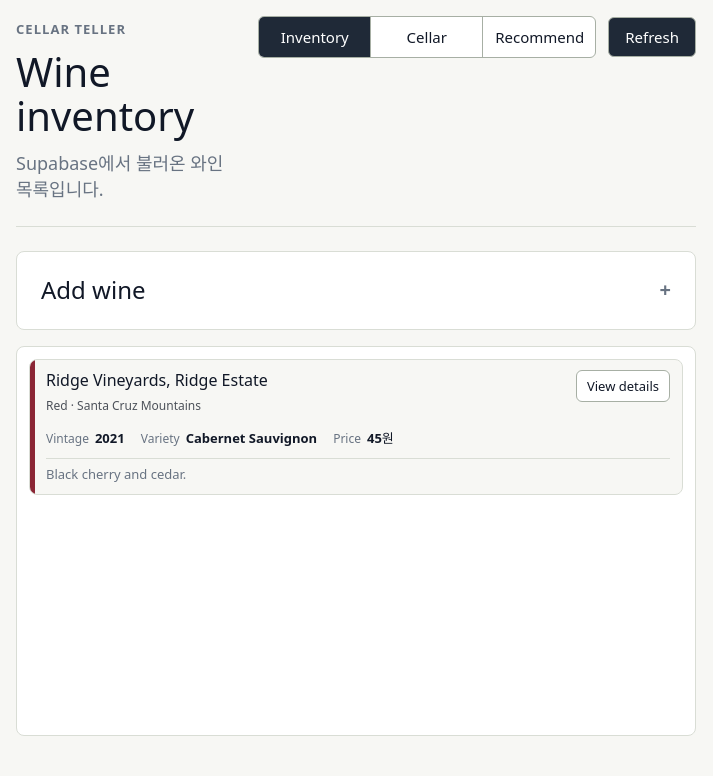
Test: App › renders the recommendation tab
Click the button "Recommend": (539,37) [483, 17, 595, 57]
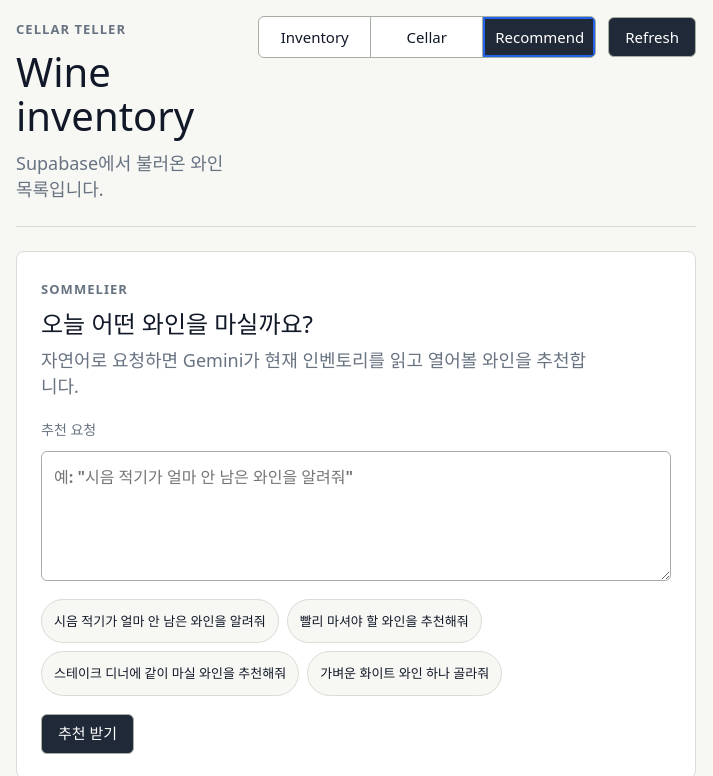
expect the heading "오늘 어떤 와인을 마실까요?" is shown: met, box [41, 307, 313, 340]
expect the button "추천 받기" is disabled: met, box [41, 714, 134, 754]
